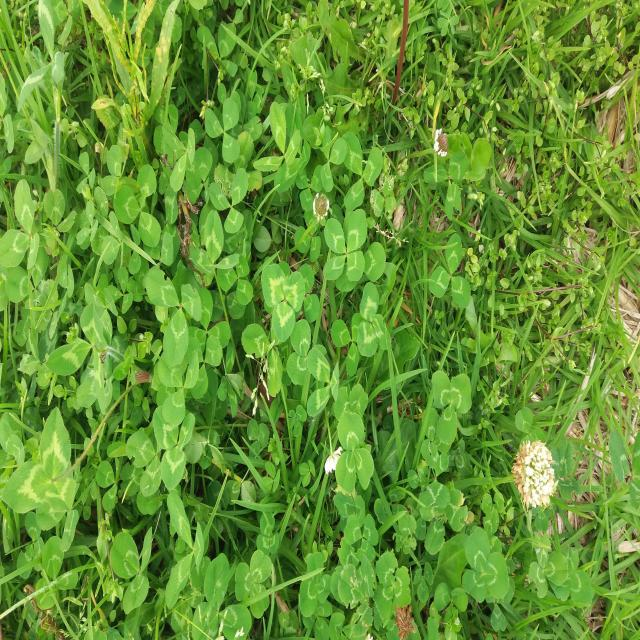Four Leaf Clover: (323, 209, 367, 282)
